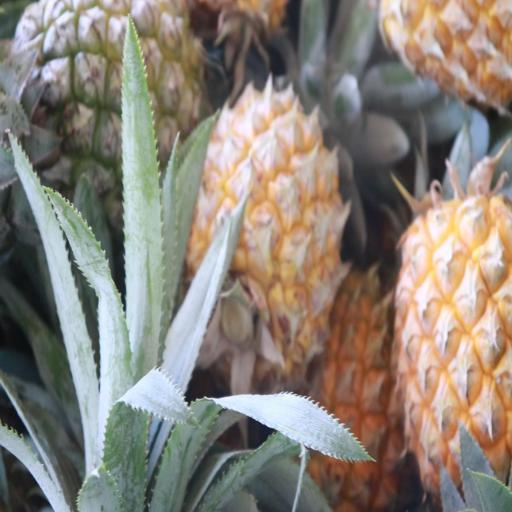Pineapple - v8 v1: (185, 90, 342, 374), (395, 198, 512, 504), (307, 269, 411, 508)
